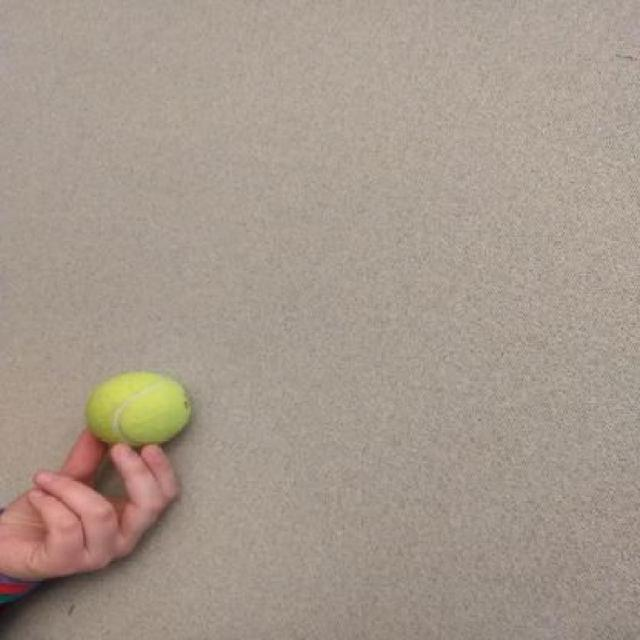Tennis_Ball: (88, 376, 192, 444)
